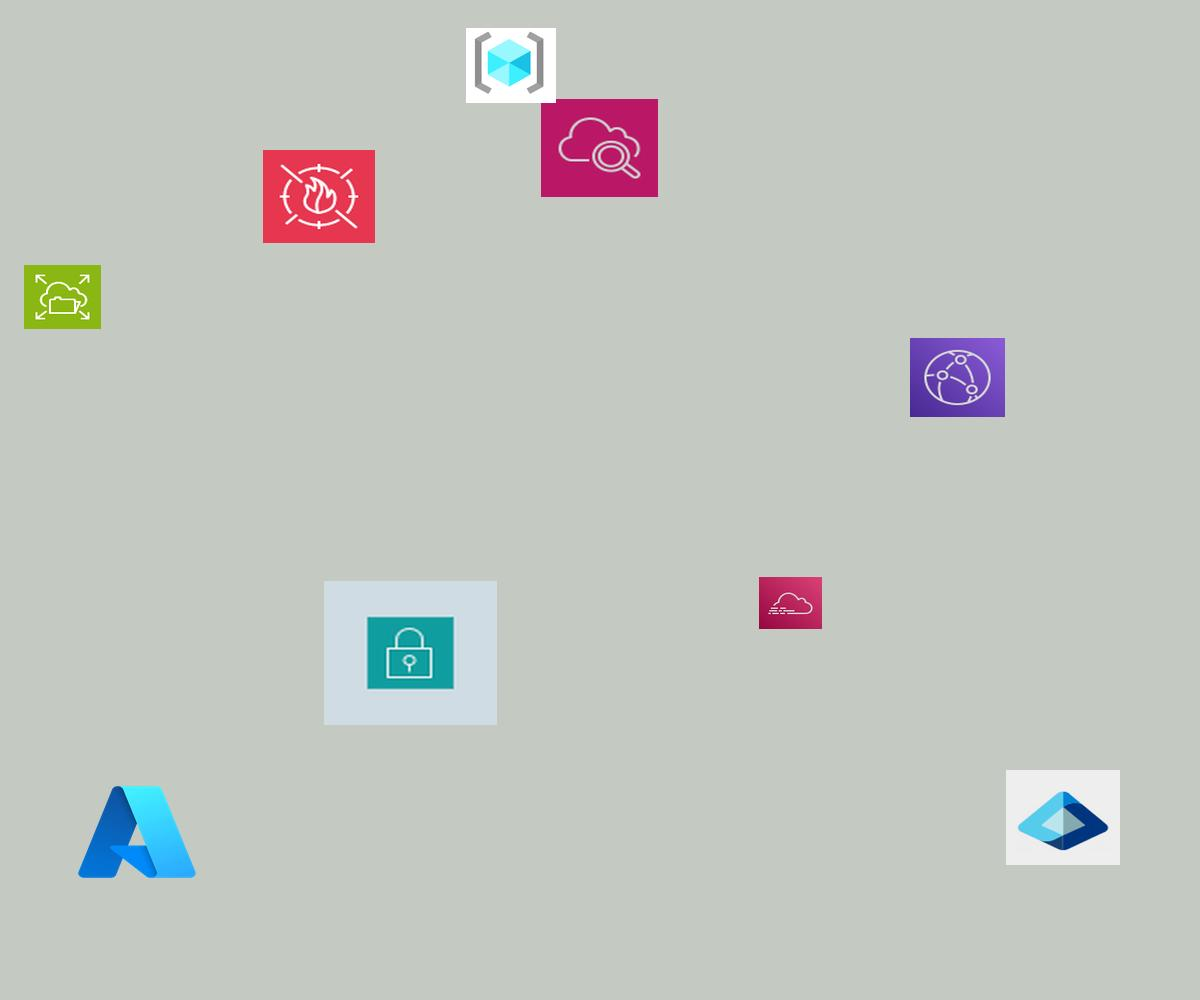AWS-CloudFront: (910, 338, 1005, 417)
AWS-CloudTrail: (759, 577, 822, 629)
AWS-CloudWatch: (541, 99, 658, 197)
AWS-EFS: (24, 265, 101, 329)
AWS-Private-subnet: (324, 581, 497, 725)
AWS-WAF: (263, 150, 375, 243)
Azure_microsoft_entra: (1006, 770, 1120, 865)
Azure_resource_group: (466, 28, 556, 103)
Azure_services: (73, 779, 201, 885)
